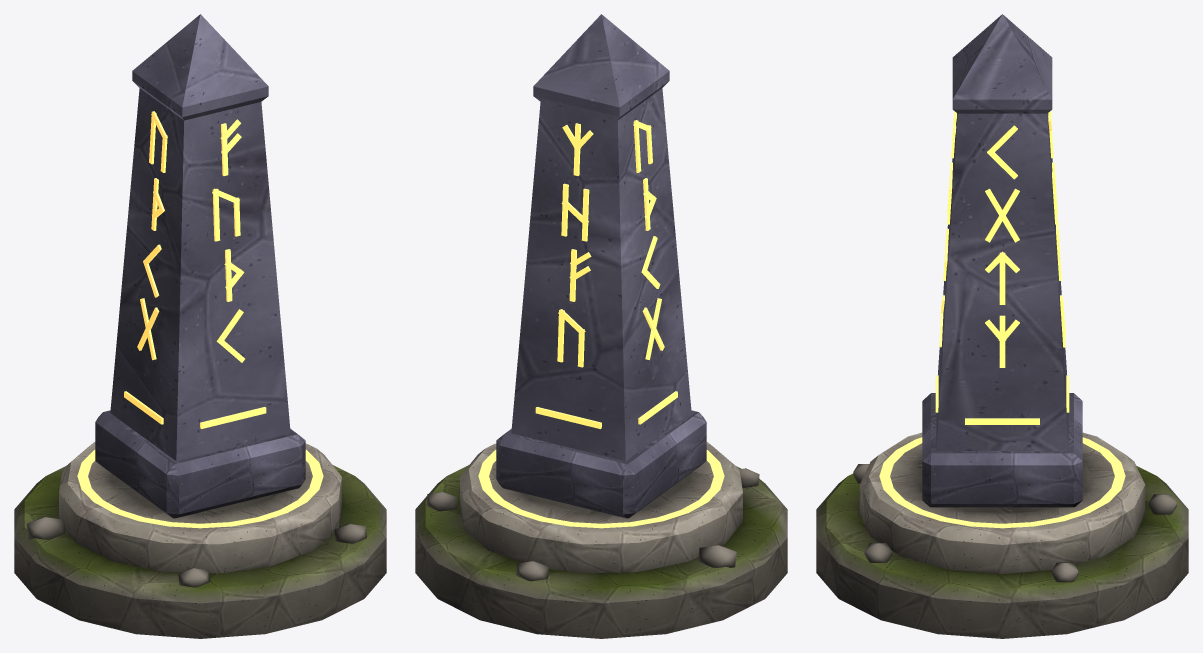
The model's file is waystone.glb.
3 views of the same model, side by side, from view 1: azimuth 30°, elevation 25°; view 2: azimuth 150°, elevation 25°; view 3: azimuth 270°, elevation 25° (orthographic).
Parts seen in each view (by area): view 1: waystone; view 2: waystone; view 3: waystone.
Part boxes in pixels (x1,y1,x2,y2): waystone: (14,14,386,638); waystone: (415,14,787,638); waystone: (816,14,1188,638).
Bounding box in the file's own units: 2.12 × 3.37 × 2.09.
Materials: 3 (2 with a texture image).
